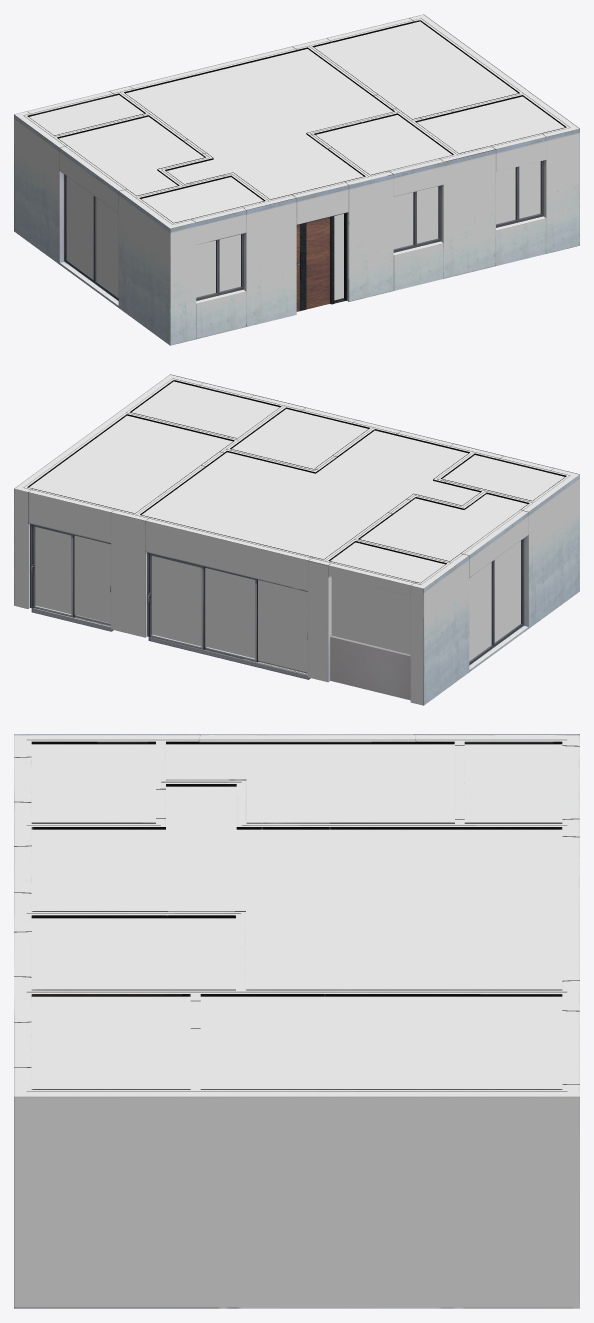
The model's file is TeRaki-05.glb.
The picture shows the model from 3 angles, top to bottom: view 1: azimuth 30°, elevation 25°; view 2: azimuth 150°, elevation 25°; view 3: azimuth 270°, elevation 25°; orthographic projection. The views are drawn at different scales.
Parts seen in each view (by area): view 1: clip, Apartment.003, openings; view 2: clip, Apartment.003, openings, Cube; view 3: clip, Apartment.003.
Part boxes in pixels (x1,y1,x2,y2): clip: (29, 21, 564, 300); Apartment.003: (14, 14, 579, 345); openings: (64, 160, 543, 311); clip: (29, 381, 564, 672); Apartment.003: (14, 374, 579, 705); openings: (30, 524, 523, 679); Cube: (330, 635, 410, 700); clip: (31, 744, 562, 1089); Apartment.003: (14, 734, 579, 1308).
Size of the model in its own units: 10.26 by 2.9 by 6.77.
Materials: 6 (5 with a texture image).
